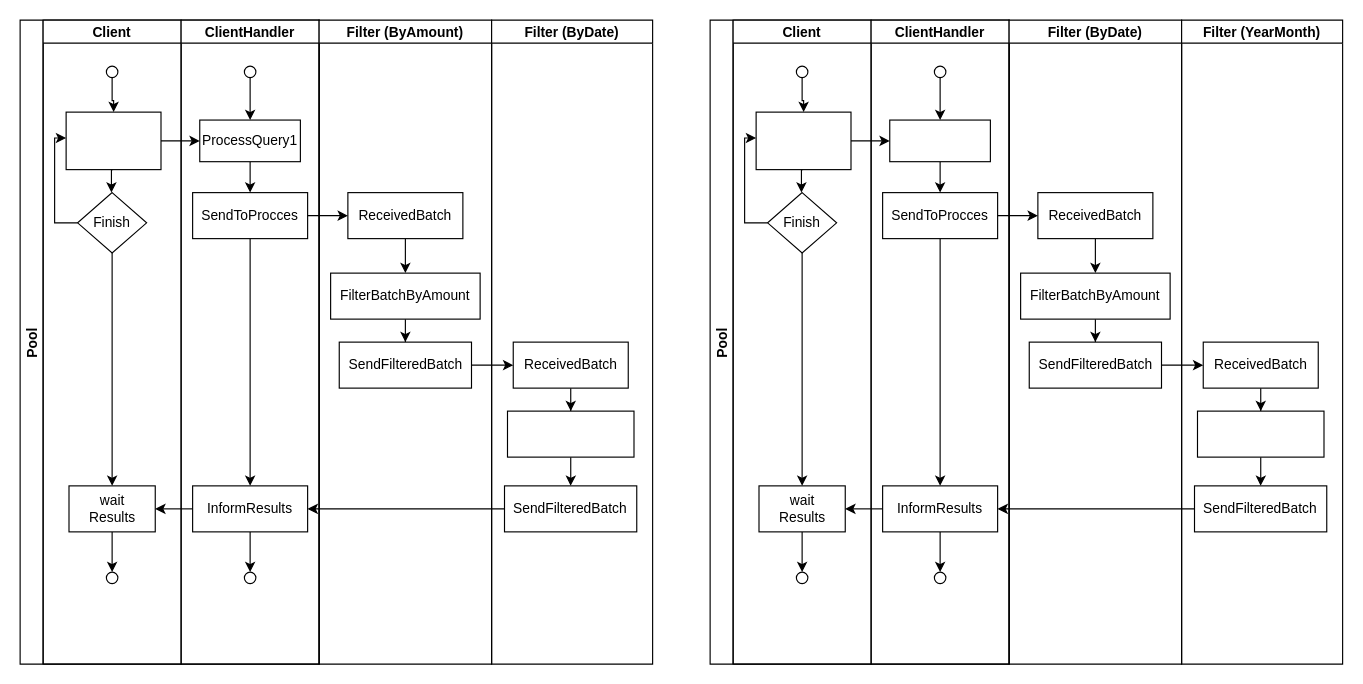
Some shapes in this 1363 by 684 pixel diagram are drawn without their labels. Here are the shapes that lost their labels. From the top down, the centre of each, then its label:
the point at 113,140: SendData Query1
the point at 803,140: SendData Query2
the point at 939,140: ProcessQuery2
the point at 570,433: FilterBatchByDate
the point at 1260,433: GroupByYearMonth
